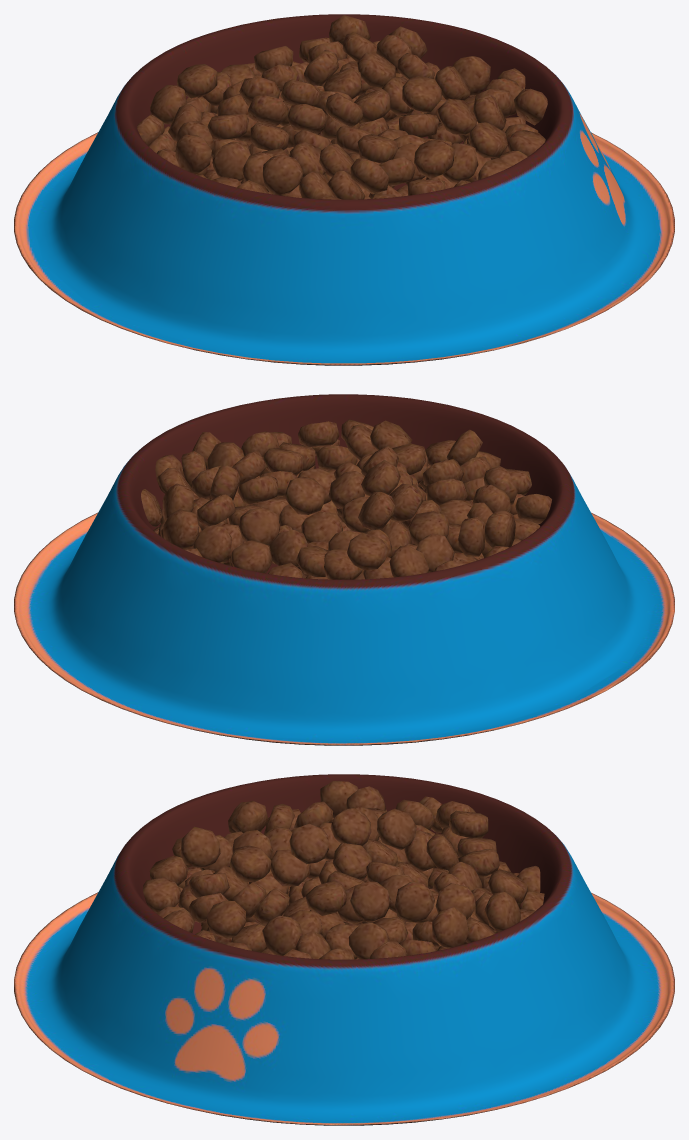
File: Bowl.fbx
3 views of the same model, one above another, from view 1: azimuth 30°, elevation 25°; view 2: azimuth 150°, elevation 25°; view 3: azimuth 270°, elevation 25° (orthographic).
Visible parts, largest first — view 1: Bowl, Food1, Food2, Food3, Food4; view 2: Bowl, Food1, Food2; view 3: Bowl, Food1, Food2, Food3.
Part boxes in pixels (box(x1,y1,x2,y2)): Bowl: box(14, 14, 674, 365); Food1: box(150, 15, 513, 194); Food2: box(137, 37, 547, 199); Food3: box(163, 54, 478, 199); Food4: box(175, 83, 538, 195); Bowl: box(14, 394, 674, 745); Food1: box(162, 420, 517, 579); Food2: box(141, 419, 551, 579); Bowl: box(14, 774, 674, 1125); Food1: box(180, 781, 527, 959); Food2: box(143, 796, 540, 959); Food3: box(157, 866, 544, 954).
Bounding box in the file's own units: 74.06 × 19.69 × 74.06.
Materials: 1 (1 with a texture image).
